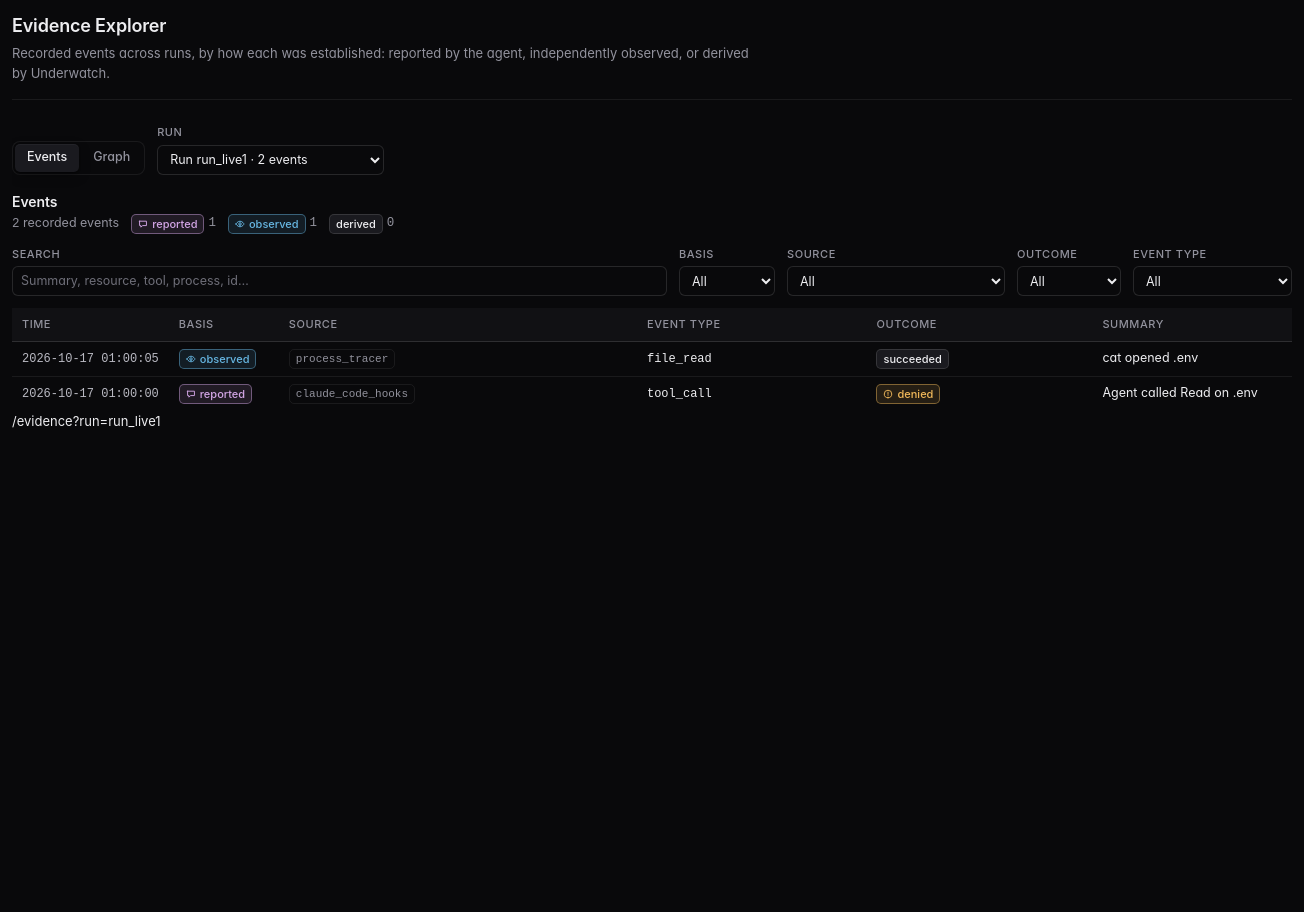
EvidenceExplorerPage › opens a selected event in the evidence inspector with links to the run timeline and related findings
Click the text "cat opened .env". click: (1150, 358)
box: [1102,348,1198,367]
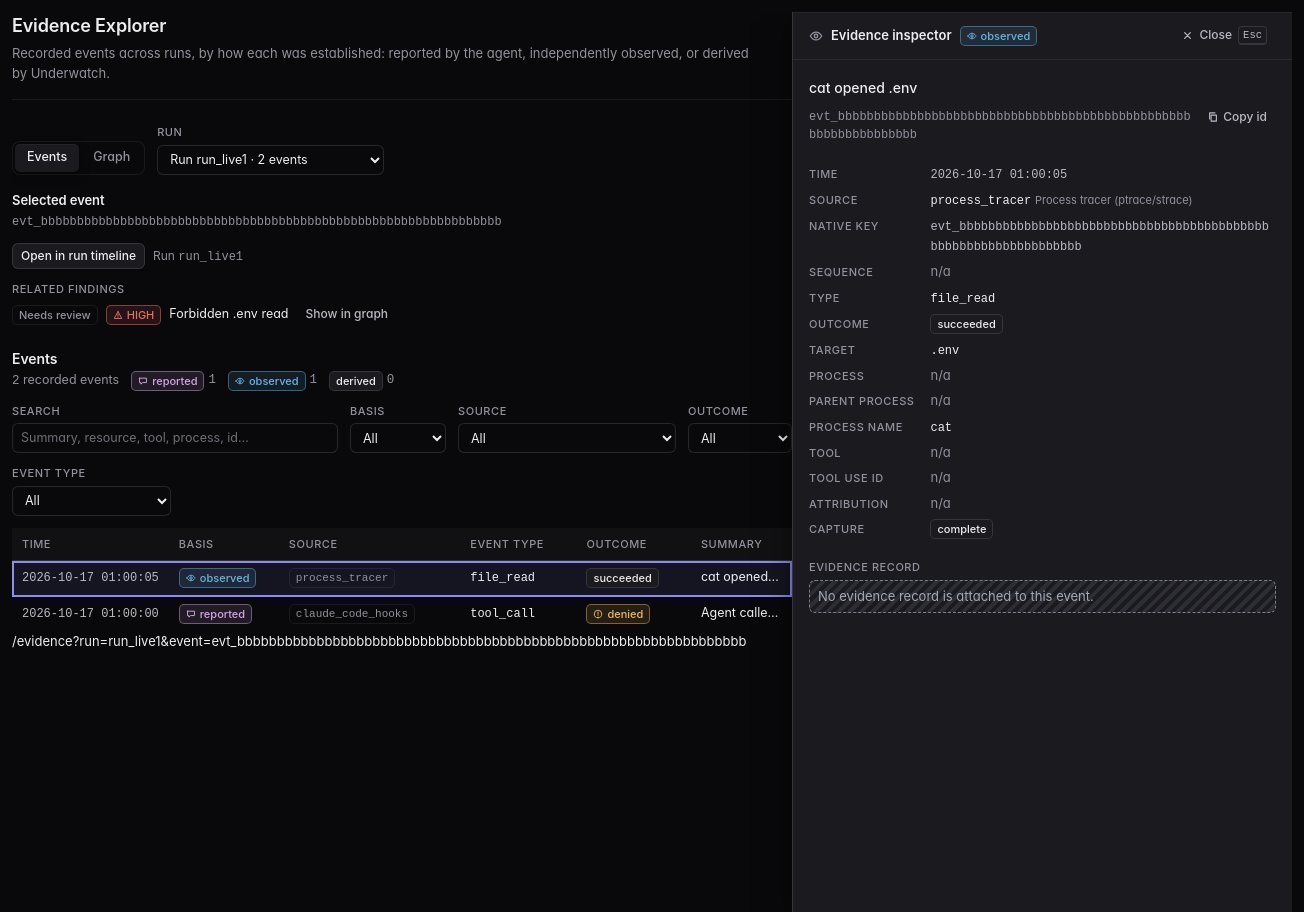
Expected: the element "Evidence inspector" is shown, [792,12,1292,911]
